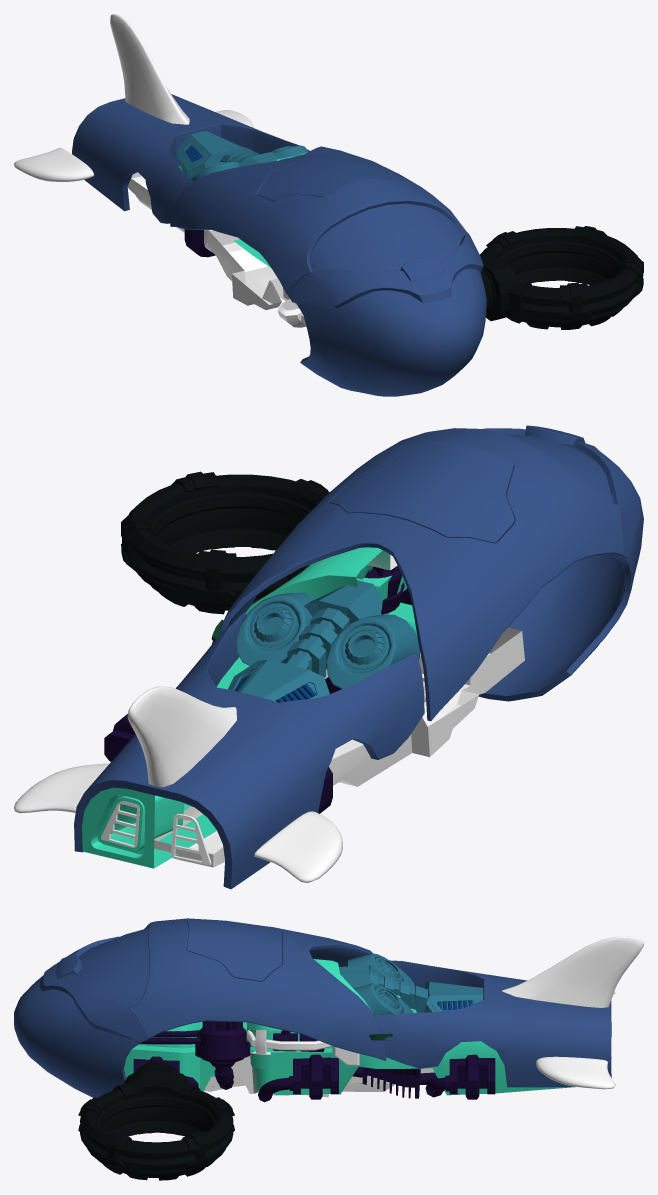
Rendered from FishDrone 03 FBX Import.fbx.
3 views of the same model, one above another, from view 1: azimuth 30°, elevation 25°; view 2: azimuth 150°, elevation 25°; view 3: azimuth 270°, elevation 25° (orthographic). The views are drawn at different scales.
Visible parts, largest first — view 1: Front Plate.005, CenterPlate Top.004_Piece, Front Plate.007, Cylinder.006, CenterPlate Top.005, Front Plate Cover Strip, CenterPlate Top.004_Piece.003, Fin.002, Cube.013, Cylinder.010_Piece.007, Front Plate.002_Piece.001, Cylinder.010_Piece.006 (+6 smaller); view 2: CenterPlate Top.004_Piece, Front Plate.007, Cylinder.006, CenterPlate Top.004_Piece.003, Front Plate.005, Body.004, Fin.002, Front Plate.002_Piece.001, Cylinder.016, Cube.013, Cylinder.010_Piece.007, Cylinder.003 (+13 smaller); view 3: CenterPlate Top.004_Piece, Front Plate.007, Front Plate.005, Body.004, Cylinder.006, Fin.002, CenterPlate Top.004_Piece.003, CenterPlate Top.005, Front Plate Cover Strip, Cylinder.010_Piece.007, Front Plate.002_Piece.001, Cube.017 (+20 smaller).
Part boxes in pixels (x1,y1,x2,y2): Front Plate.005: (296,238,486,396); CenterPlate Top.004_Piece: (170,146,469,294); Front Plate.007: (72,94,309,223); Cylinder.006: (480,228,639,322); CenterPlate Top.005: (310,203,464,271); Front Plate Cover Strip: (288,234,483,308); CenterPlate Top.004_Piece.003: (257,155,391,200); Fin.002: (110,14,189,124); Cube.013: (206,230,299,309); Cylinder.010_Piece.007: (486,226,643,322); Front Plate.002_Piece.001: (14,110,253,181); Cylinder.010_Piece.006: (480,253,531,321); CenterPlate Top.004_Piece: (220,428,624,721); Front Plate.007: (74,612,424,889); Cylinder.006: (126,474,326,604); CenterPlate Top.004_Piece.003: (329,441,514,543); Front Plate.005: (478,434,643,701); Body.004: (82,547,417,868); Fin.002: (127,686,236,787); Front Plate.002_Piece.001: (14,763,342,882); Cylinder.016: (236,592,419,688); Cube.013: (330,678,478,786); Cylinder.010_Piece.007: (121,471,329,604); Cylinder.003: (249,603,388,669); CenterPlate Top.004_Piece: (129,918,386,1060); Front Plate.007: (374,960,611,1087); Front Plate.005: (14,944,139,1097); Body.004: (124,959,611,1095); Cylinder.006: (80,1089,233,1173); Fin.002: (502,936,643,1007); CenterPlate Top.004_Piece.003: (186,919,282,981); CenterPlate Top.005: (75,928,149,1008); Front Plate Cover Strip: (39,936,146,1043); Cylinder.010_Piece.007: (78,1097,234,1169); Front Plate.002_Piece.001: (536,991,615,1089); Cube.017: (449,1054,495,1099).
Bounding box in the file's own units: 5.07 × 2.46 × 7.98.
